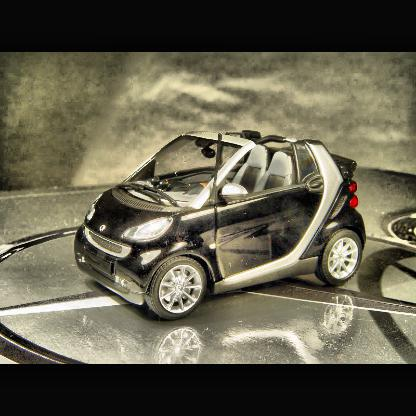smart fortwo Convertible 2012: (73, 131, 368, 324)
